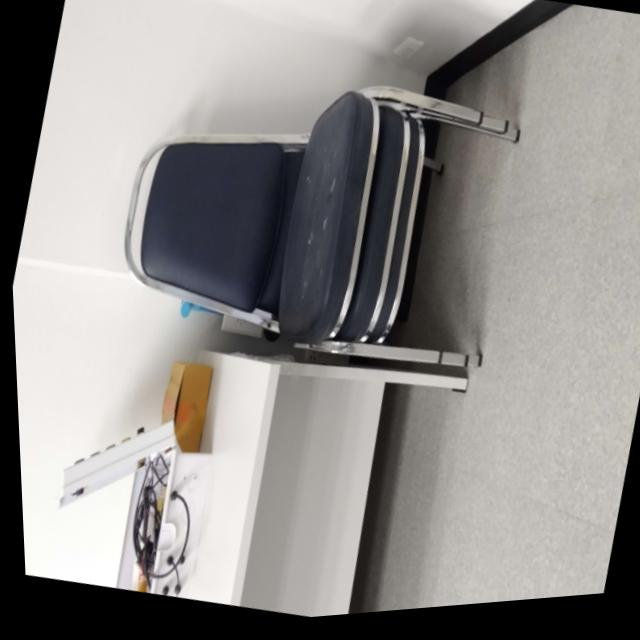chair: (86, 0, 573, 433)
